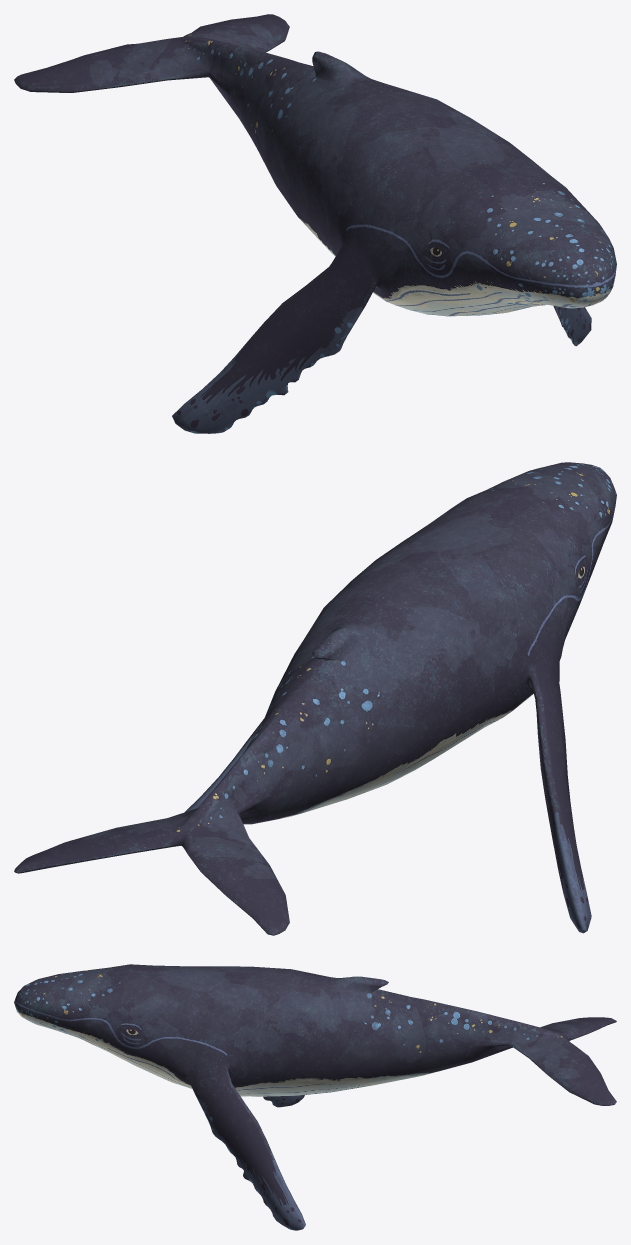
File: Ballena_PBR.glb
3 renders of one model, top to bottom at view 1: azimuth 30°, elevation 25°; view 2: azimuth 150°, elevation 25°; view 3: azimuth 270°, elevation 25°, orthographic. The views are drawn at different scales.
Parts seen in each view (by area): view 1: Ballena_MAIN_Geo; view 2: Ballena_MAIN_Geo; view 3: Ballena_MAIN_Geo.
Part boxes in pixels (left/top/right/bottom): Ballena_MAIN_Geo: left=14, top=14, right=616, bottom=433; Ballena_MAIN_Geo: left=14, top=462, right=616, bottom=935; Ballena_MAIN_Geo: left=14, top=964, right=616, bottom=1230.
Bounding box in the file's own units: 12.03 × 8.34 × 23.02.
1 material, 1 textured.
